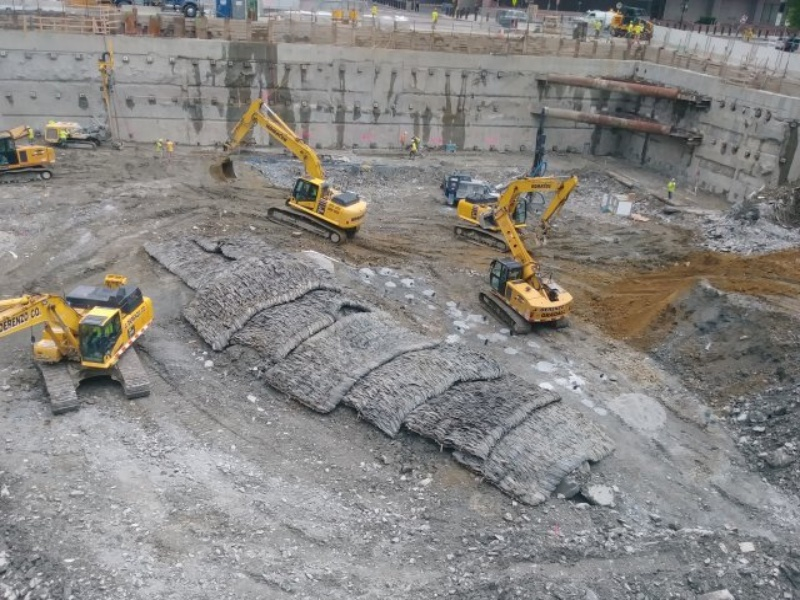excavator: (206, 98, 369, 247), (1, 270, 155, 416), (478, 213, 571, 337), (450, 174, 582, 255), (1, 135, 58, 184)
